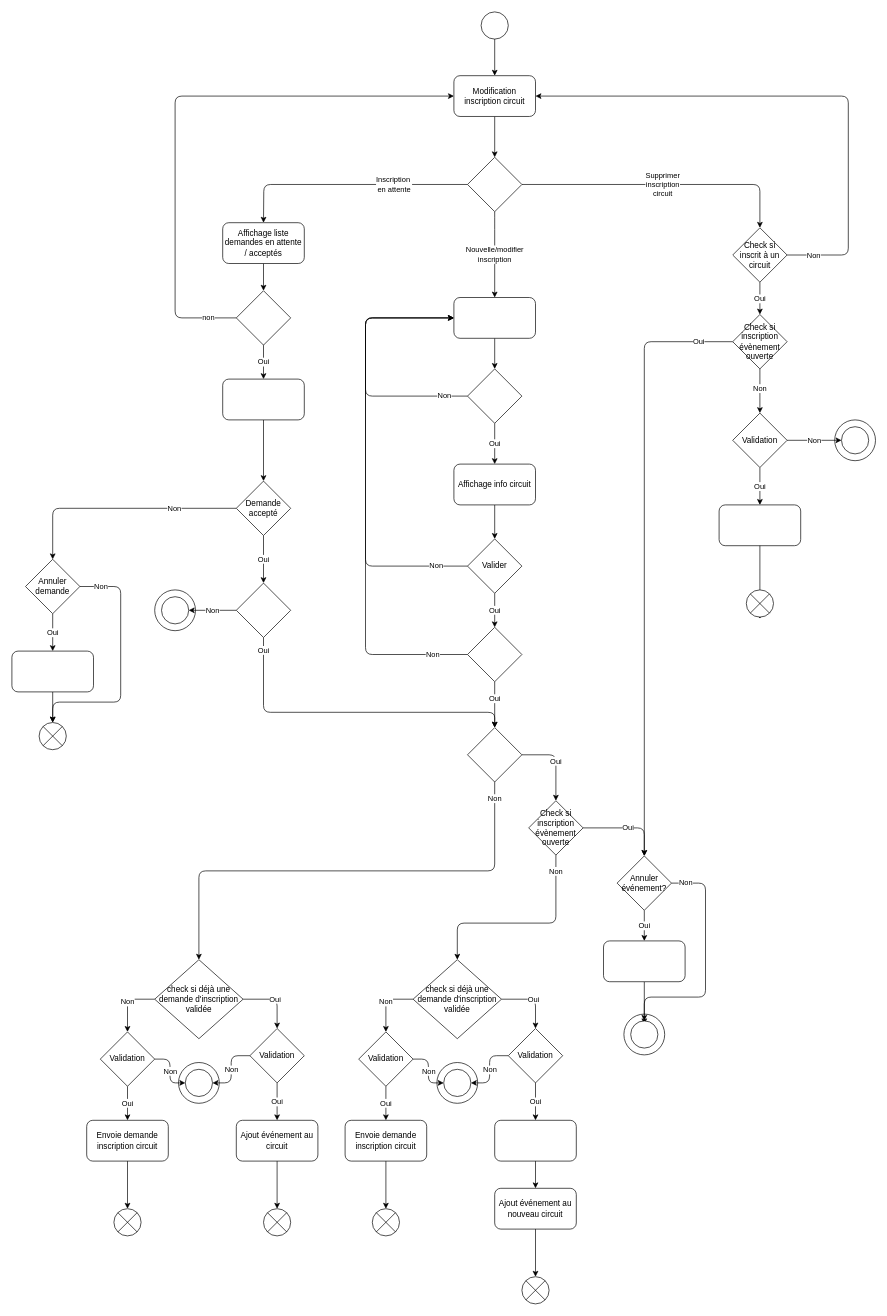
This 887x1316 diagram has some shape labels left out. The shapes that lost their labels are listed below. From the top down, each one's centre as x and y in pixels, then its label:
At pixel 263 317: "selection demande".
At pixel 494 317: "Liste circuit disponible".
At pixel 263 399: "Infos demande".
At pixel 494 395: "Choix circuit".
At pixel 759 525: "Suppression événement du circuit".
At pixel 263 610: "Ajouter événement au circuit".
At pixel 52 671: "Annulation de la demande / notification au circuit".
At pixel 494 654: "Check condition inscription ok".
At pixel 494 754: "Check si déjà inscrit à un circuit".
At pixel 644 961: "Annuler événement".
At pixel 535 1140: "Suppression de l'événement du circuit précédent".
